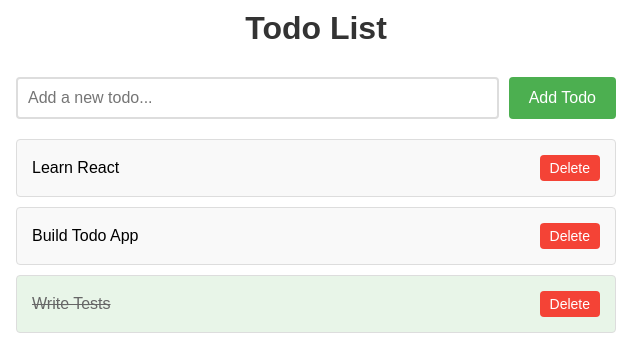
Test: TodoList Component › deletes a todo when delete button is clicked
The width and height of the screenshot is (633, 350).
expect the number of list items is 3: met, box [16,139,616,197]; [16,207,616,265]; [16,275,616,333]
# Click the delete button
Click the button "Delete" in the row of "Learn React" at [570, 168], box [540,155,600,181]
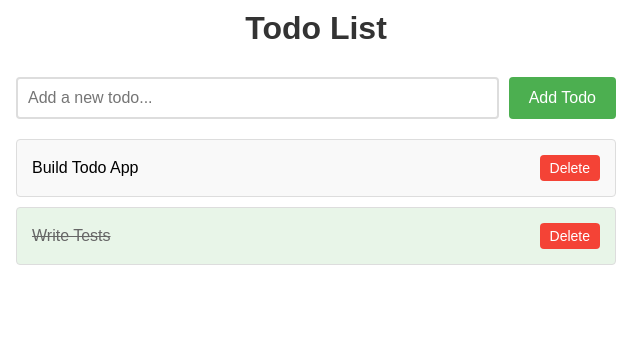
expect the text "Build Todo App" is shown: met, box [32,159,138,176]
expect the text "Learn React" is gone: met
expect the number of list items is 2: met, box [16,139,616,197]; [16,207,616,265]
